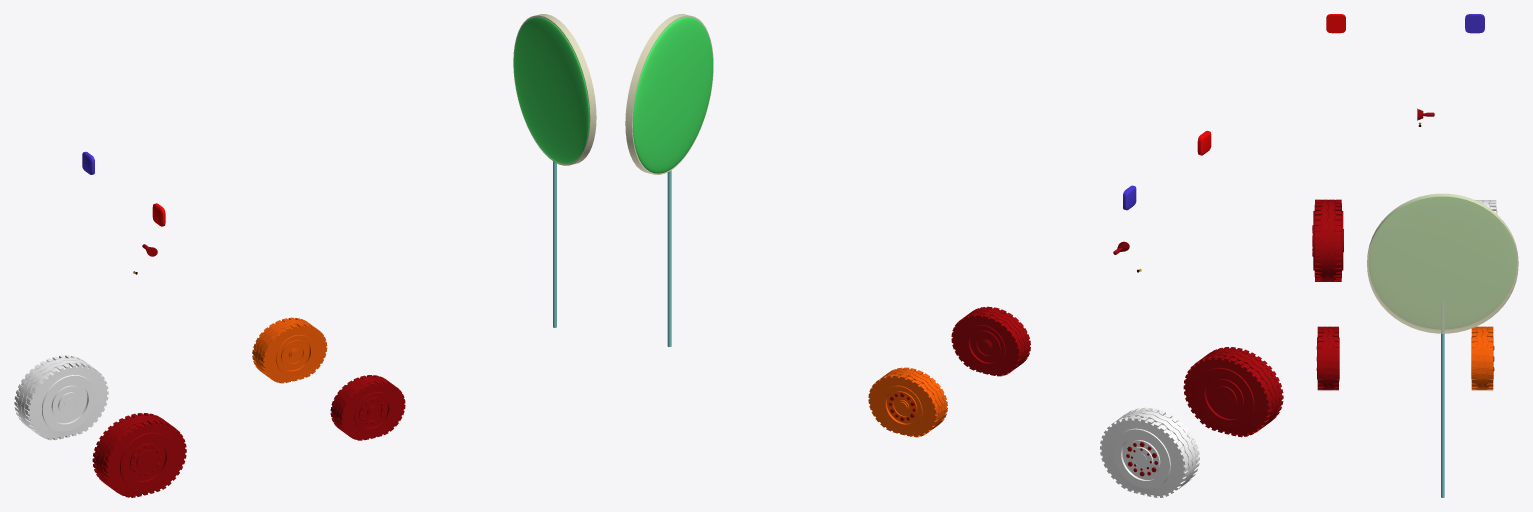
3 views of the same model, side by side, from view 1: azimuth 30°, elevation 25°; view 2: azimuth 150°, elevation 25°; view 3: azimuth 270°, elevation 25° (orthographic). The views are drawn at different scales.
Parts seen in each view (by area): view 1: Sphere001, Cylinder1073, Cylinder1101, wheel_r_abnormal, wheel_l_abnormal, Cylinder1121, Cylinder1122; view 2: Sphere001, Cylinder1101, Cylinder1073, wheel_l_abnormal, wheel_r_abnormal, Cylinder1121, Cylinder1122; view 3: Cylinder1121, Sphere001, Cylinder1101, wheel_r_abnormal, wheel_l_abnormal, Cylinder1122, Object034, Object033.
Boxes of the visible parts, box(x1,y1,x2,y2) form: Sphere001: box(514, 17, 589, 164); Cylinder1073: box(14, 355, 108, 440); Cylinder1101: box(92, 413, 186, 497); wheel_r_abnormal: box(252, 317, 327, 383); wheel_l_abnormal: box(330, 375, 405, 440); Cylinder1121: box(513, 14, 596, 165); Cylinder1122: box(553, 161, 556, 327); Sphere001: box(633, 17, 712, 173); Cylinder1101: box(1183, 347, 1283, 437); Cylinder1073: box(1100, 407, 1199, 497); wheel_l_abnormal: box(951, 306, 1030, 376); wheel_r_abnormal: box(868, 367, 947, 437); Cylinder1121: box(625, 14, 713, 174); Cylinder1122: box(667, 170, 671, 346); Cylinder1121: box(1367, 193, 1518, 333); Sphere001: box(1369, 195, 1516, 328); Cylinder1101: box(1312, 199, 1343, 281); wheel_r_abnormal: box(1471, 326, 1493, 390); wheel_l_abnormal: box(1317, 326, 1339, 390); Cylinder1122: box(1441, 302, 1444, 497); Object034: box(1326, 14, 1345, 33); Object033: box(1465, 14, 1484, 33).
Size of the model in its own units: 146 by 84.37 by 51.37.
